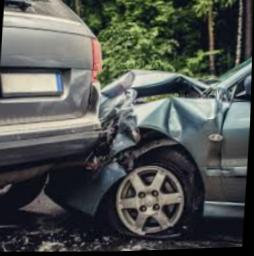Bonnet: (108, 68, 201, 107)
Fender: (136, 97, 218, 174)
